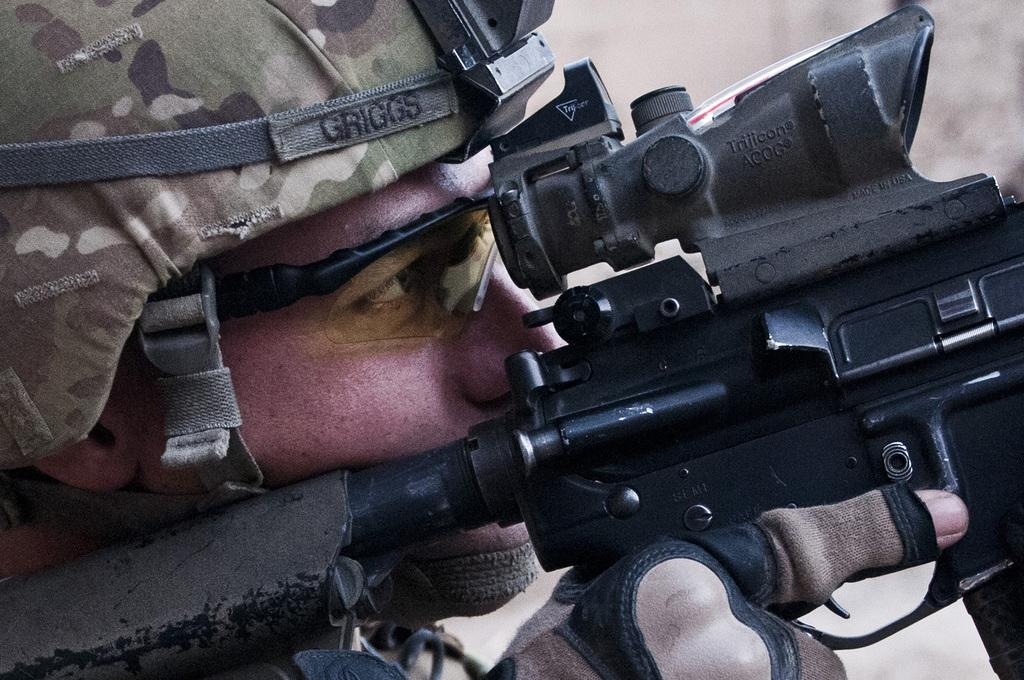Rifle: (0, 4, 1023, 679)
